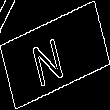N_N: (35, 24, 75, 86)
